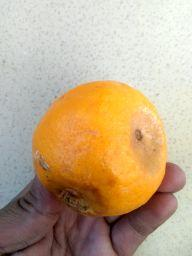Unripe: (32, 79, 166, 217)
